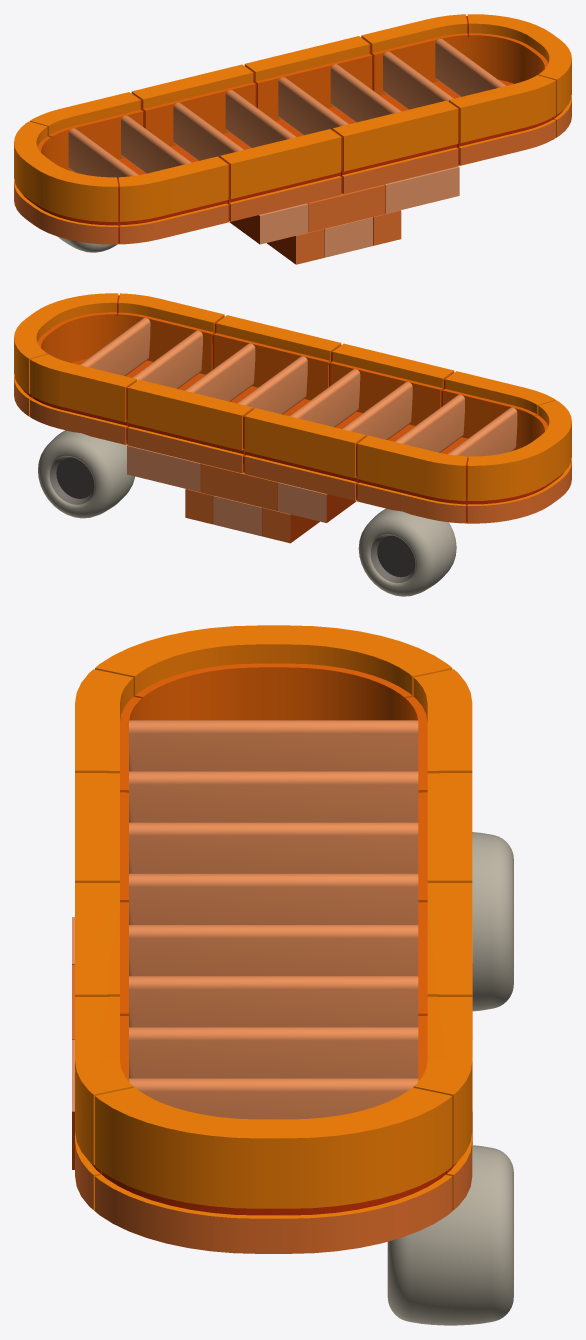
Rendered from OrangeSlotTray.fbx.
3 renders of one model, top to bottom at view 1: azimuth 30°, elevation 25°; view 2: azimuth 150°, elevation 25°; view 3: azimuth 270°, elevation 25°, orthographic. The views are drawn at different scales.
Visible parts, largest first — view 1: OrangeSlotTray, Wheels; view 2: OrangeSlotTray, Wheels; view 3: OrangeSlotTray, Wheels.
Boxes of the visible parts, x1,y1,x2,y2 form: OrangeSlotTray: (14, 14, 571, 264); Wheels: (58, 237, 117, 252); OrangeSlotTray: (14, 293, 571, 543); Wheels: (38, 430, 456, 596); OrangeSlotTray: (72, 625, 472, 1253); Wheels: (387, 832, 513, 1325).
Bounding box in the file's own units: 1068 × 269 × 389.
1 material, 1 textured.
